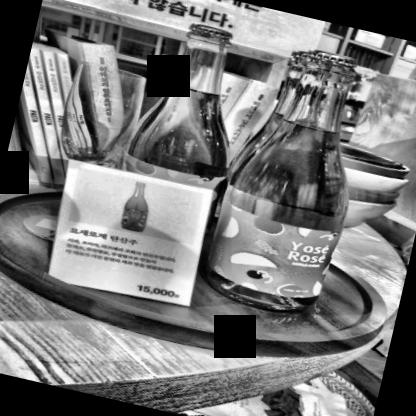yoserose: (210, 206, 336, 306)
